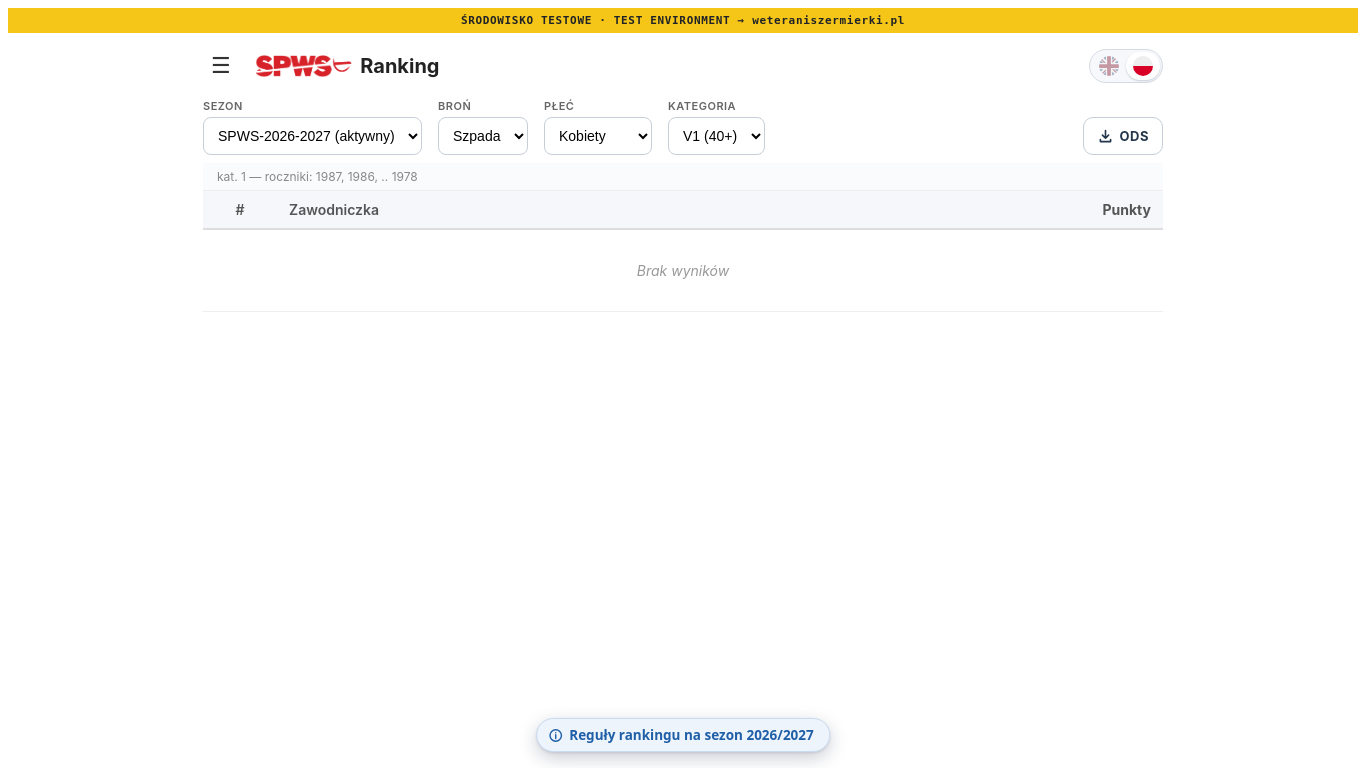
Scenario: SR.LINK — the chosen season's rules, one click from the list › SR.LINK.04 the link opens the chosen season's rules with that season's coefficients
The width and height of the screenshot is (1366, 768).
Check: the text "kat. 1 — roczniki: 1987, 1986, .. 1978" is shown, box [203,163,1163,191]
Select "SPWS-2025-2026" in the dropdown with class "season-select" at (312, 136), box [203,117,422,155]
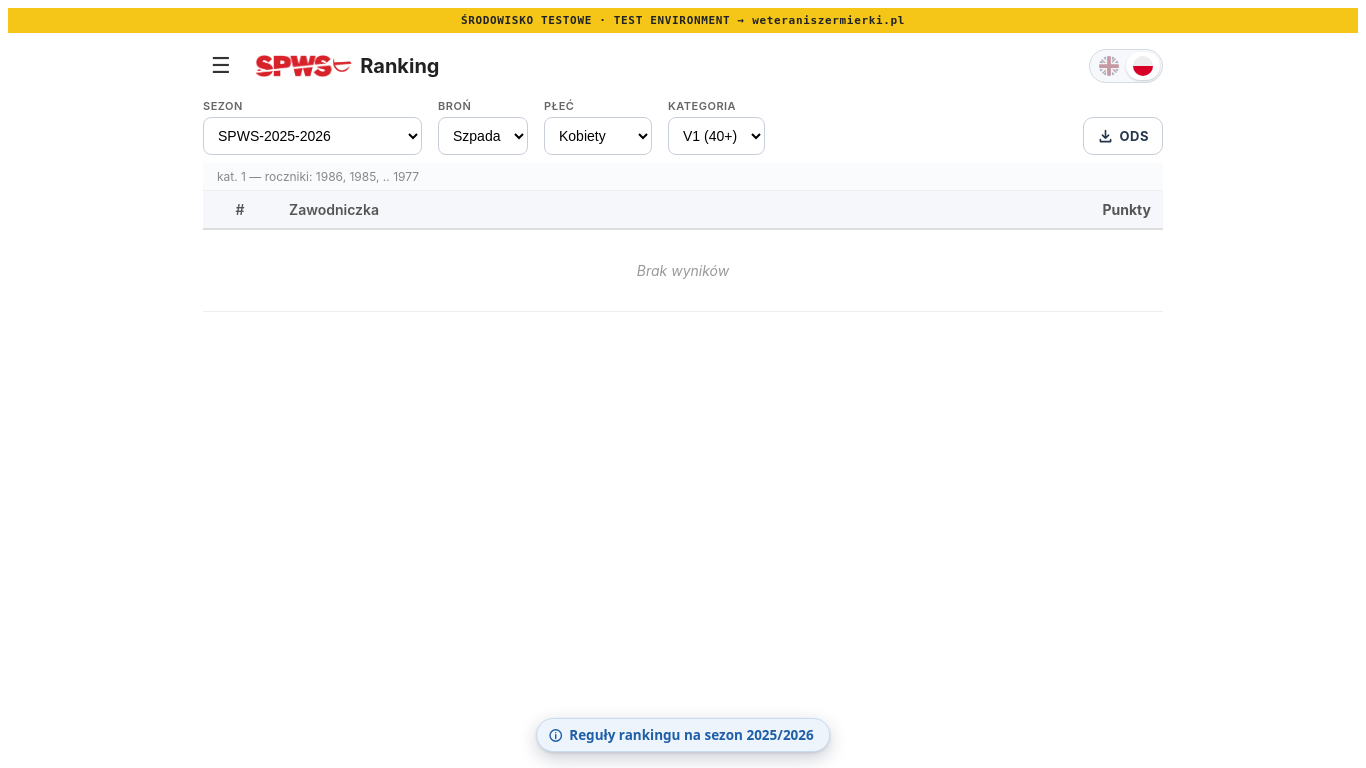
Check: the button with class "rules-link" reads "Reguły rankingu na sezon 2025/2026"
Click the button with class "rules-link".
click(683, 735)  # box [536,718,830,752]
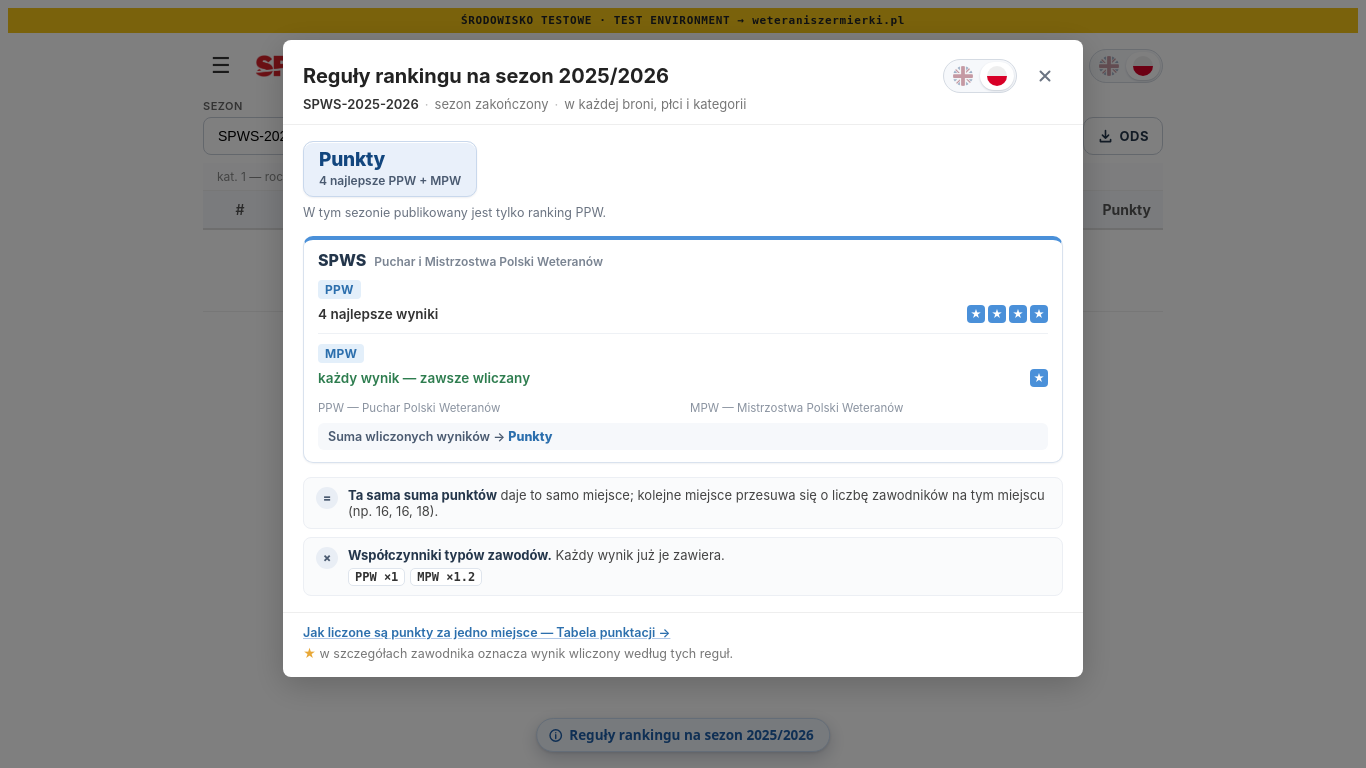
Check: the button with class "rules-link" reads "Reguły rankingu na sezon 2025/2026", box [536,718,830,752]
Check: the element with class "rules-overlay" is shown
Check: the number of elements with class "coef" is 2, box [348,568,405,586]; [410,568,482,586]
